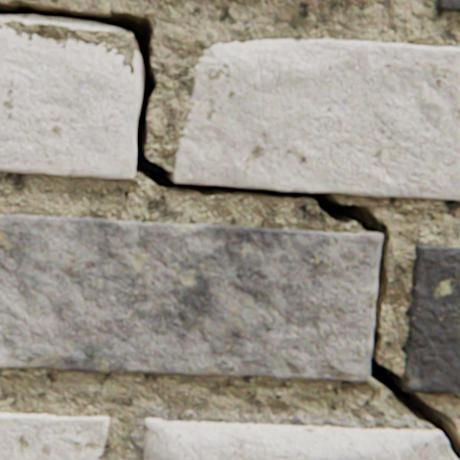brick: (0, 214, 381, 380), (174, 40, 459, 199), (0, 27, 139, 179), (401, 244, 459, 392), (0, 411, 109, 459), (435, 0, 459, 12)
broken_brick: (144, 417, 457, 459), (454, 428, 459, 438)
crack: (0, 0, 459, 459)
